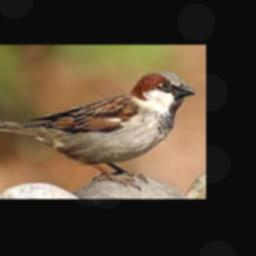Sparrow: (0, 71, 196, 190)
